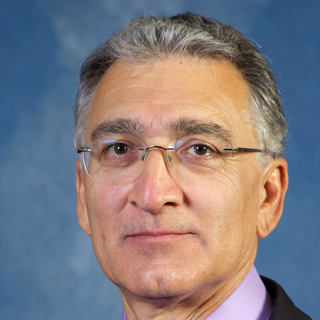eye: (178, 139, 227, 163), (97, 138, 141, 163)
